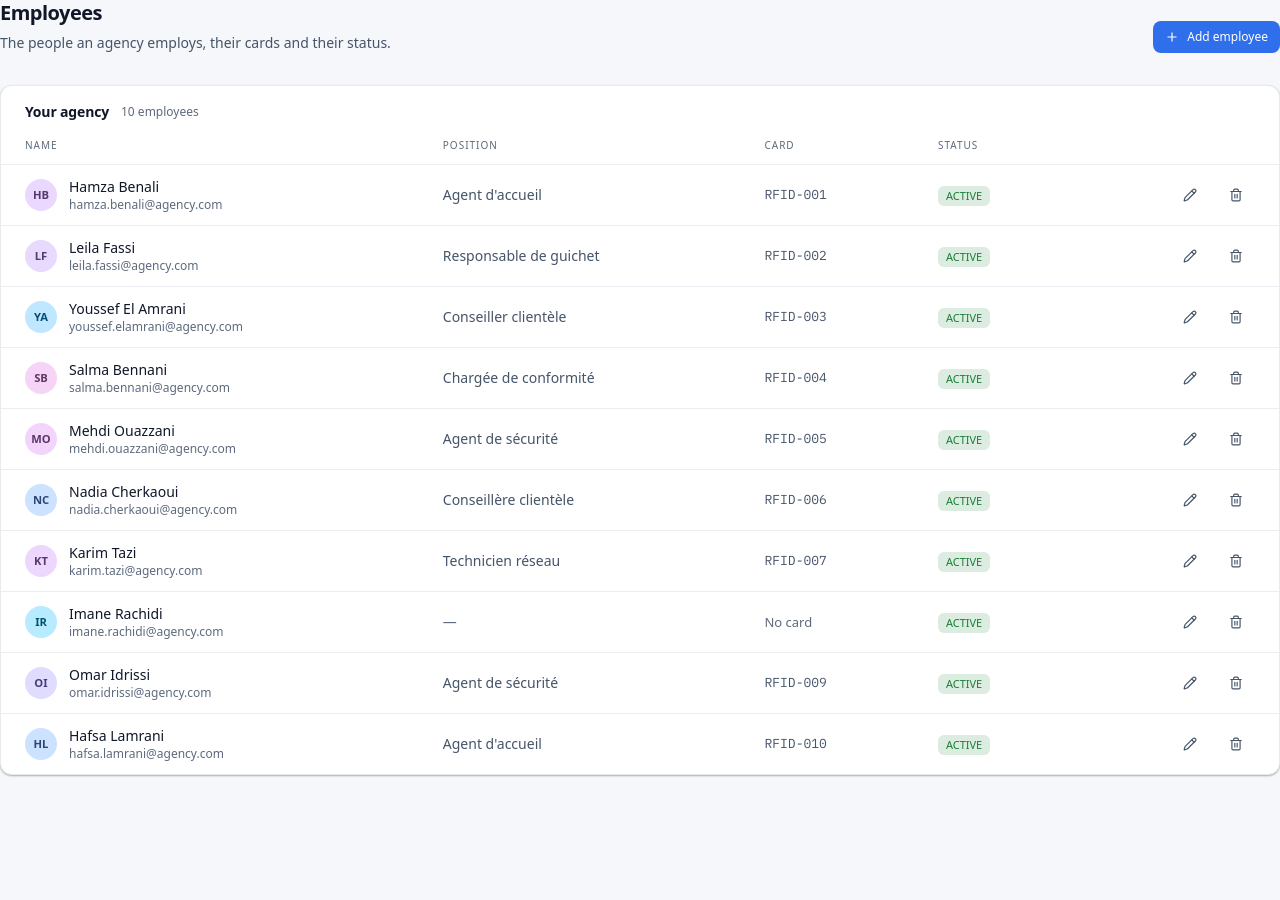
Scenario: Employees › enforces the two-character minimum the schema requires
Click the button "Add employee" at (1217, 37), box [1153,21,1279,53]
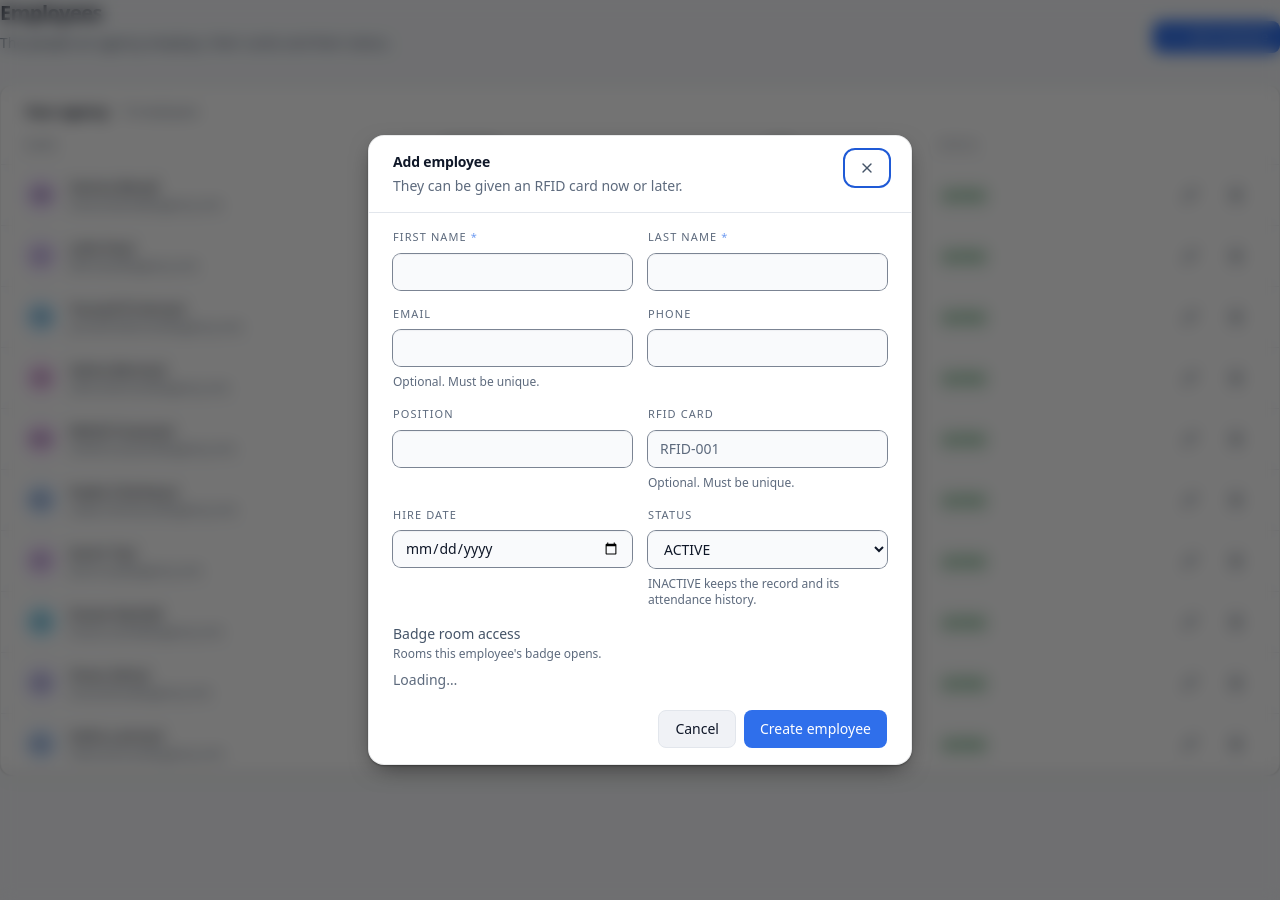
Type "A" into the field labelled "First name*" at (512, 272), box [393,254,632,290]
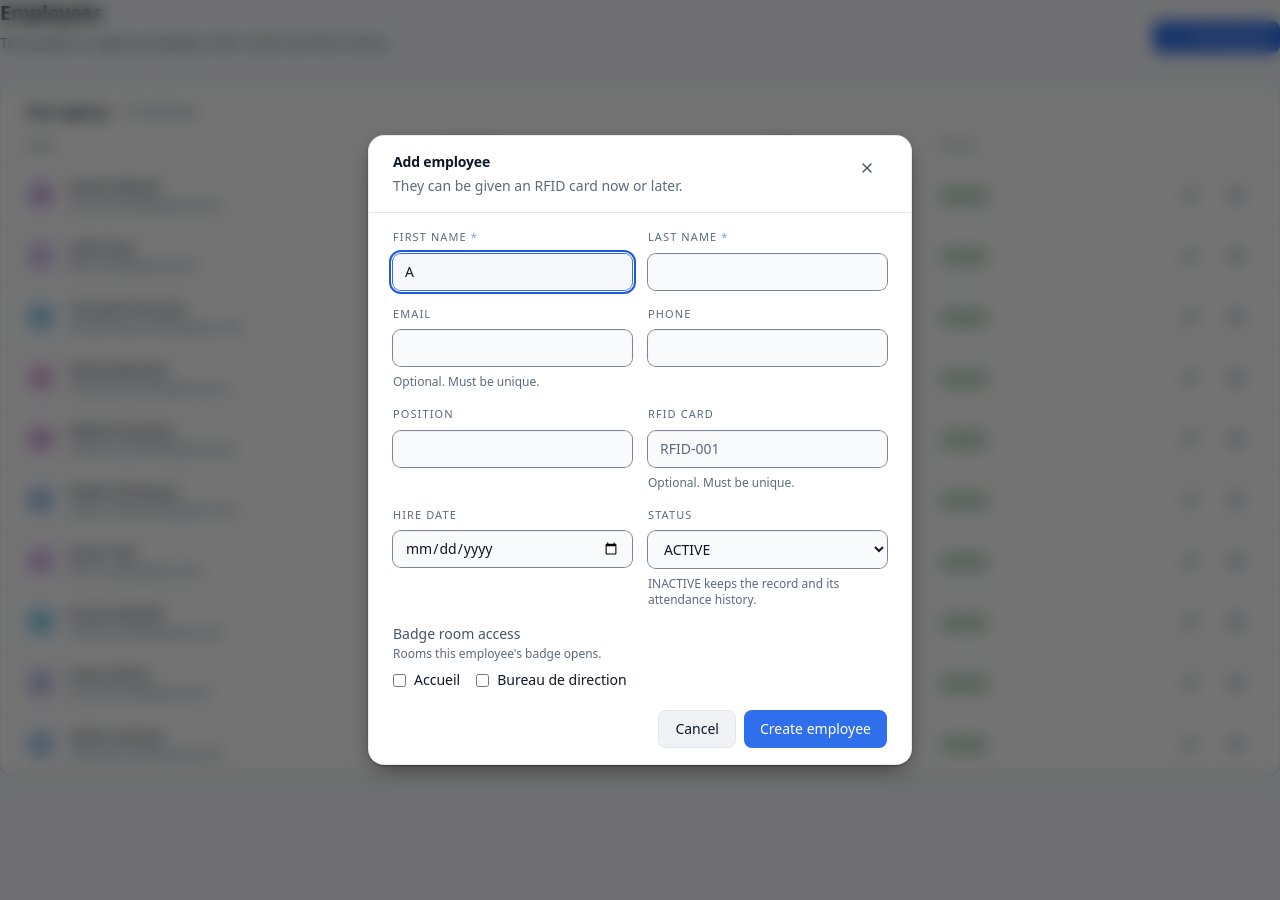
Type "Benali" into the field labelled "Last name*" at (768, 272), box [648,254,887,290]
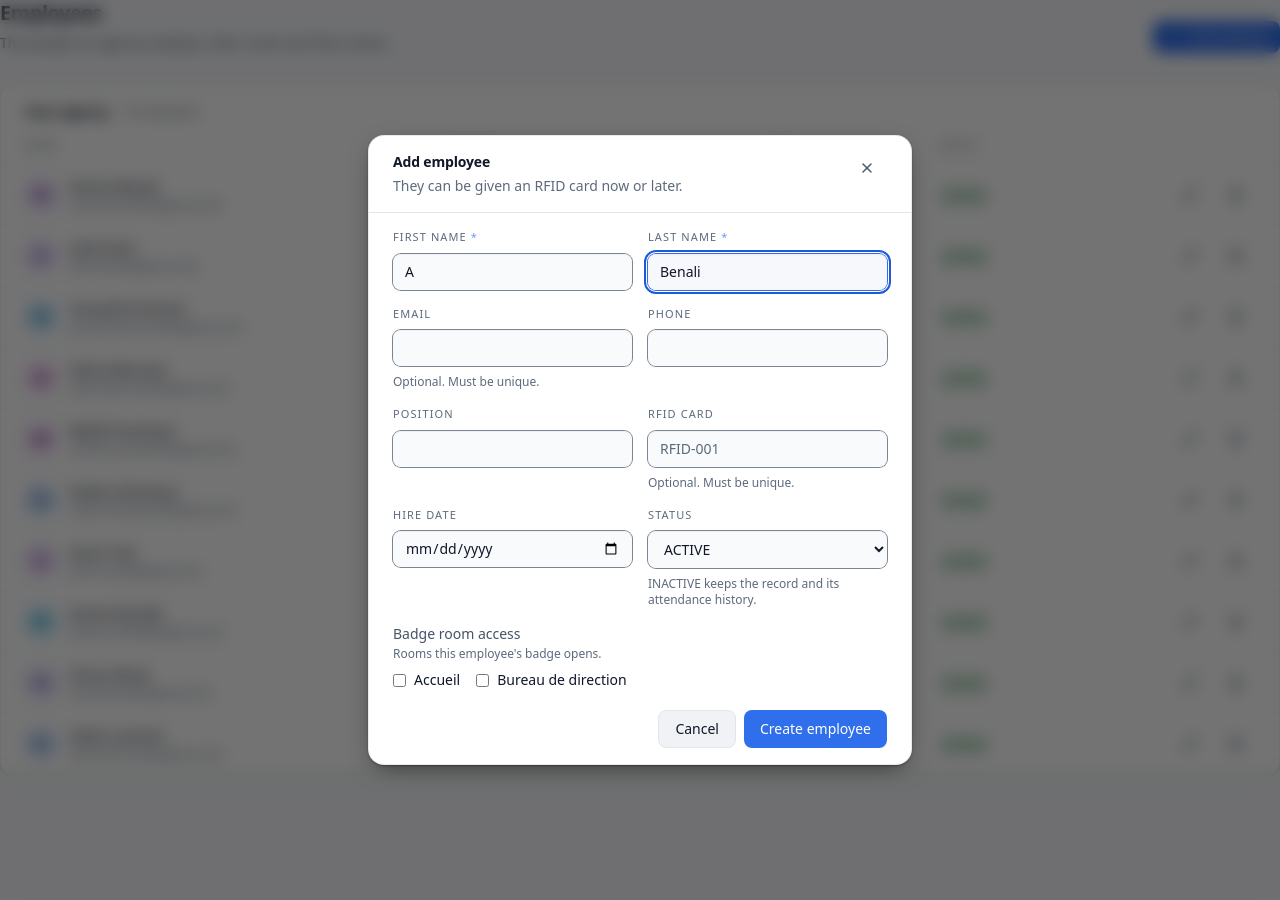
Click the button "Create employee" at (816, 729), box [744,710,887,748]
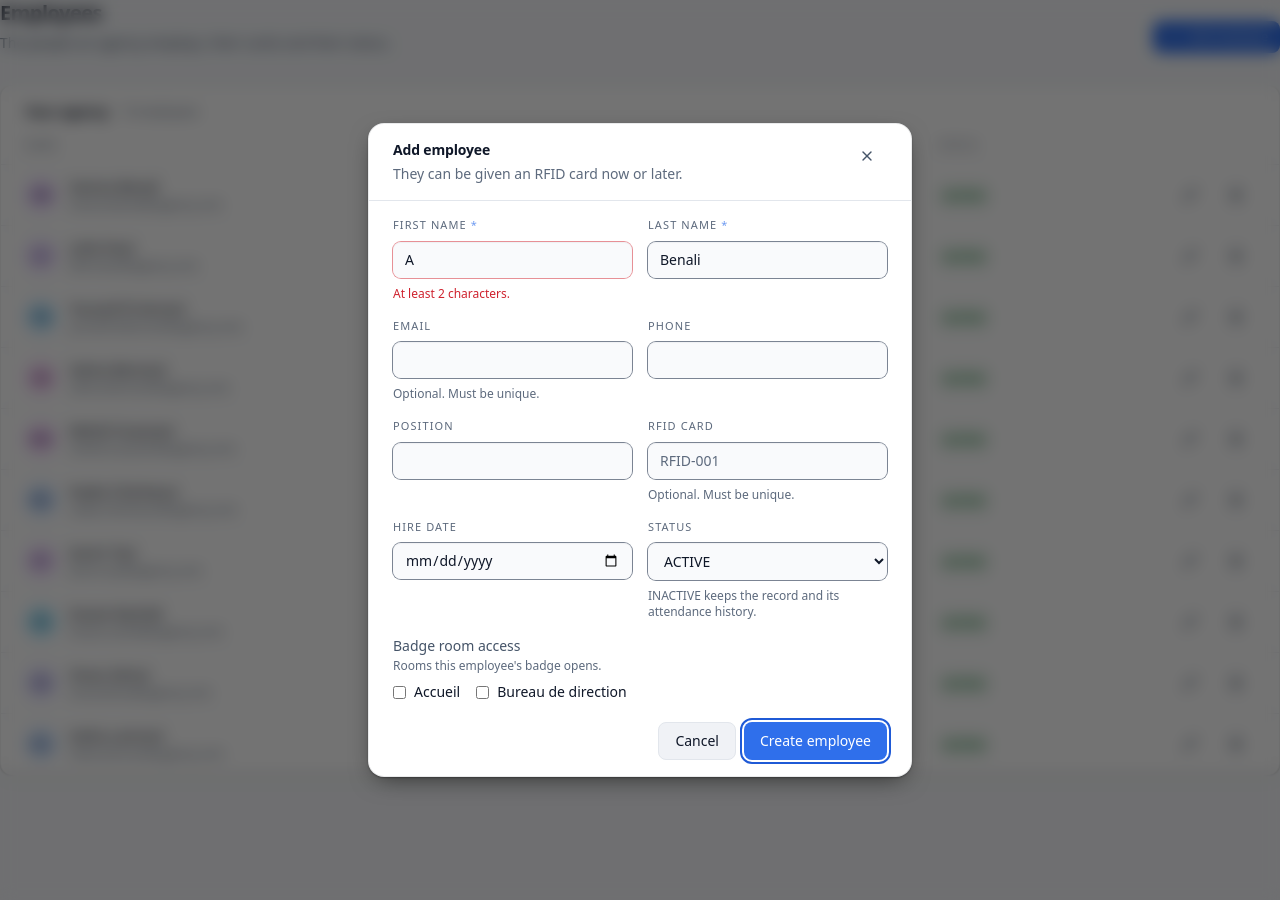
Check: the text "At least 2 characters." is shown, box [393,284,510,302]
